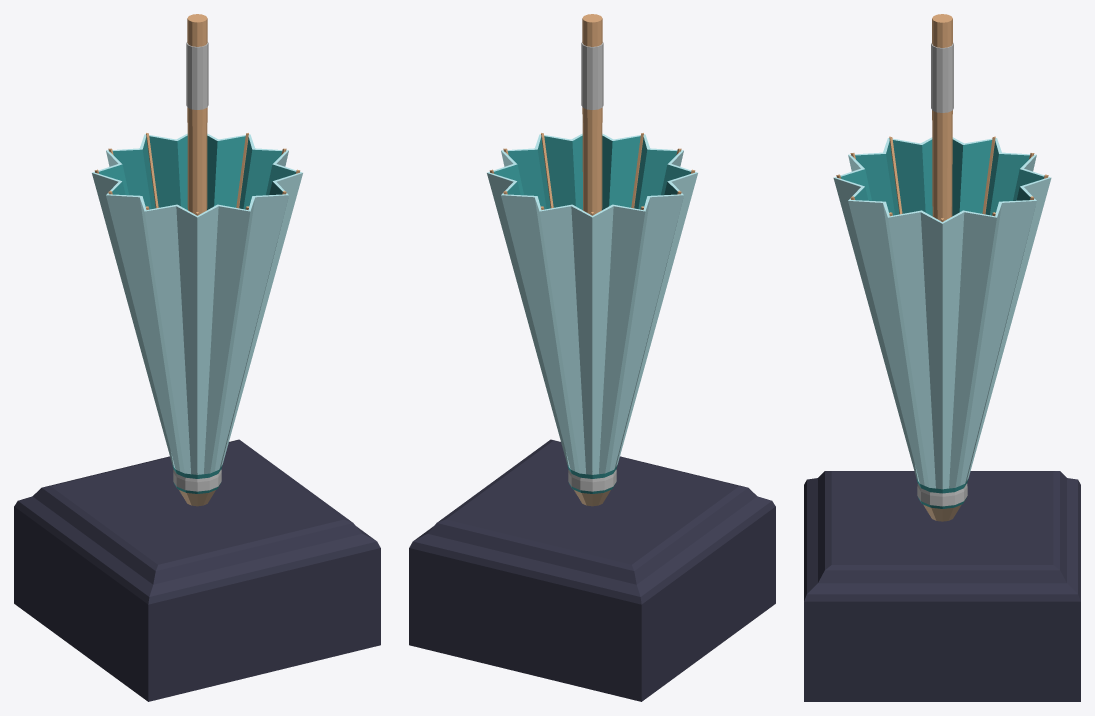
Rendered from Umbrella(Queen).fbx.
3 renders of one model, left to right at view 1: azimuth 30°, elevation 25°; view 2: azimuth 150°, elevation 25°; view 3: azimuth 270°, elevation 25°, orthographic. The views are drawn at different scales.
Parts seen in each view (by area): view 1: Umbrella; view 2: Umbrella; view 3: Umbrella.
Part boxes in pixels (x1,y1,x2,y2): Umbrella: (14, 14, 380, 701); Umbrella: (409, 14, 775, 701); Umbrella: (804, 14, 1080, 701).
Bounding box in the file's own units: 200 × 498 × 200.
